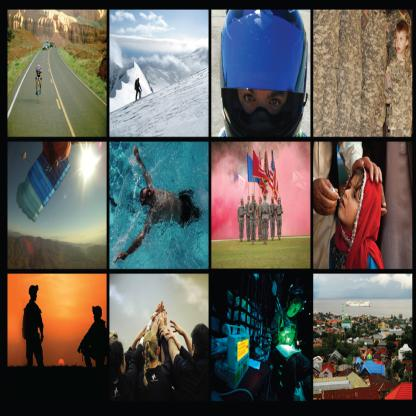Helmet: (220, 5, 309, 140), (26, 284, 38, 298), (92, 305, 103, 319)
